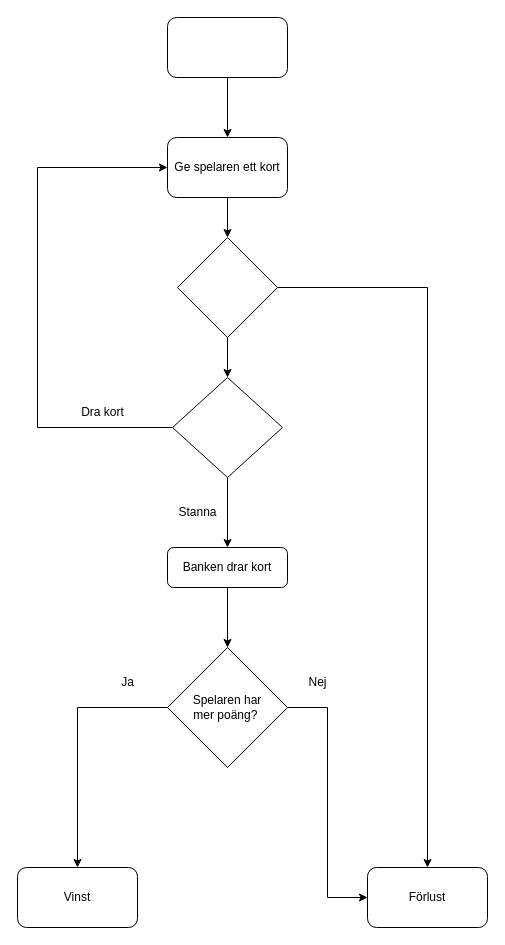
This 505x945 diagram has some shape labels left out. The shapes that lost their labels are listed below. From the top down, each one's centre as x and y in pixels, then its label:
At point (227, 47): "Starta spel".
At point (227, 287): "Överskrider handen 21?".
At point (227, 427): "Stanna eller ta ett kort".
